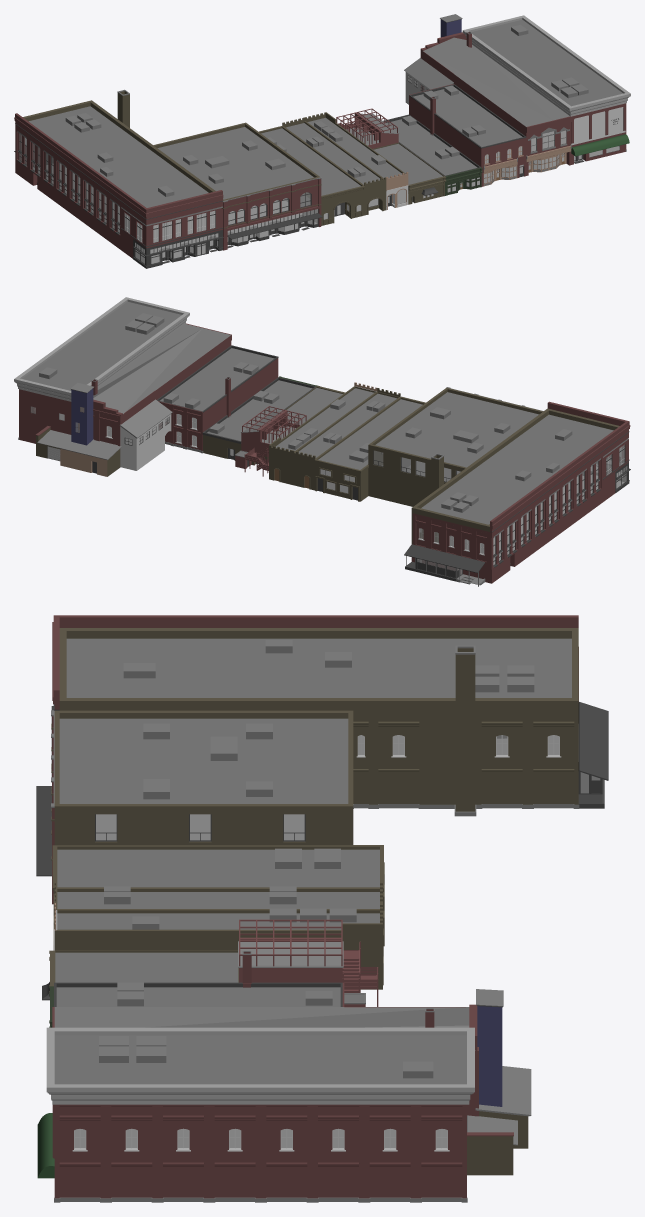
The model's file is SM_BozemanDowntown1.fbx.
3 views of the same model, one above another, from view 1: azimuth 30°, elevation 25°; view 2: azimuth 150°, elevation 25°; view 3: azimuth 270°, elevation 25° (orthographic). The views are drawn at different scales.
Parts seen in each view (by area): view 1: polySurface419; view 2: polySurface419; view 3: polySurface419.
Part boxes in pixels (x1,y1,x2,y2): polySurface419: [14, 14, 630, 268]; polySurface419: [14, 297, 630, 586]; polySurface419: [36, 615, 608, 1202].
Size of the model in its own units: 9327 by 1509 by 4778.
